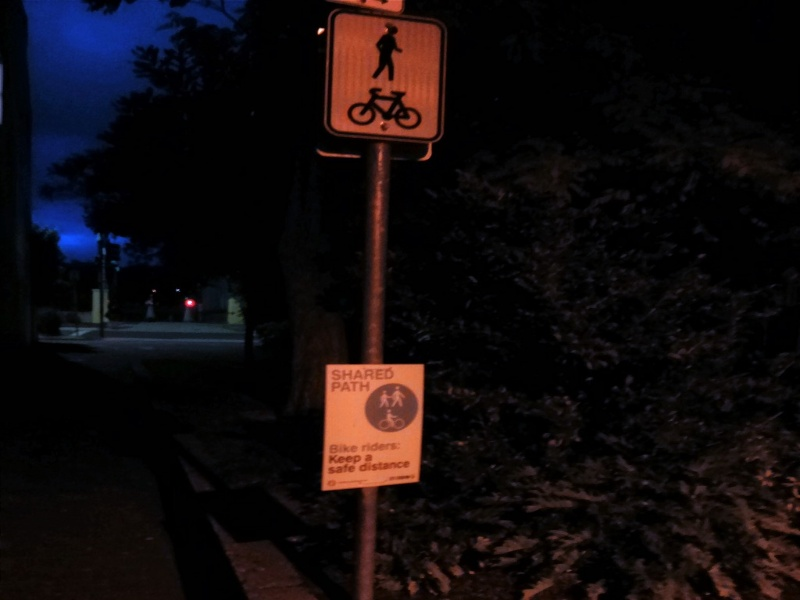cycle_route_ahead: (344, 84, 426, 134)
pedestrian_crossing_ahead: (366, 20, 409, 83), (376, 382, 408, 409)
